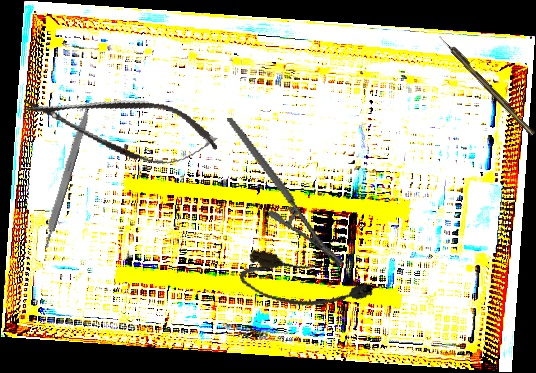Cannula: (236, 247, 377, 323)
Hook Surgical: (437, 32, 536, 138)
Micro Scissor: (17, 76, 224, 177)
Needle Holder: (226, 97, 346, 287)
Scalpel Handle: (39, 107, 92, 249)
